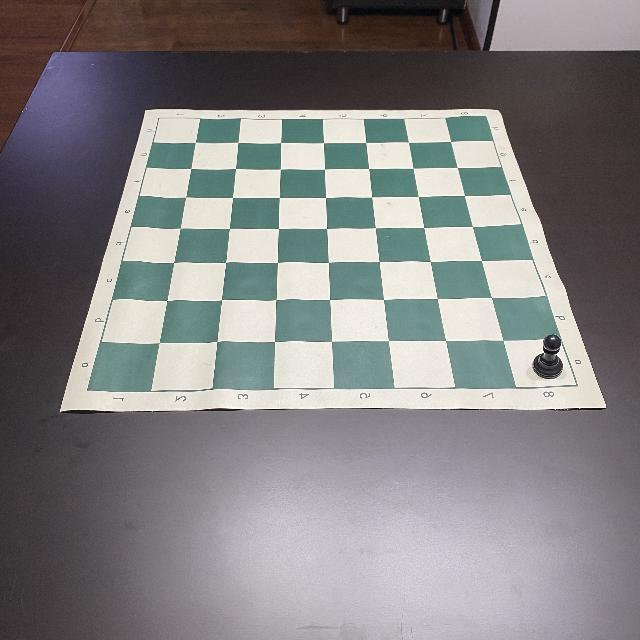black-pawn: (532, 333, 564, 379)
board: (59, 107, 607, 413)
